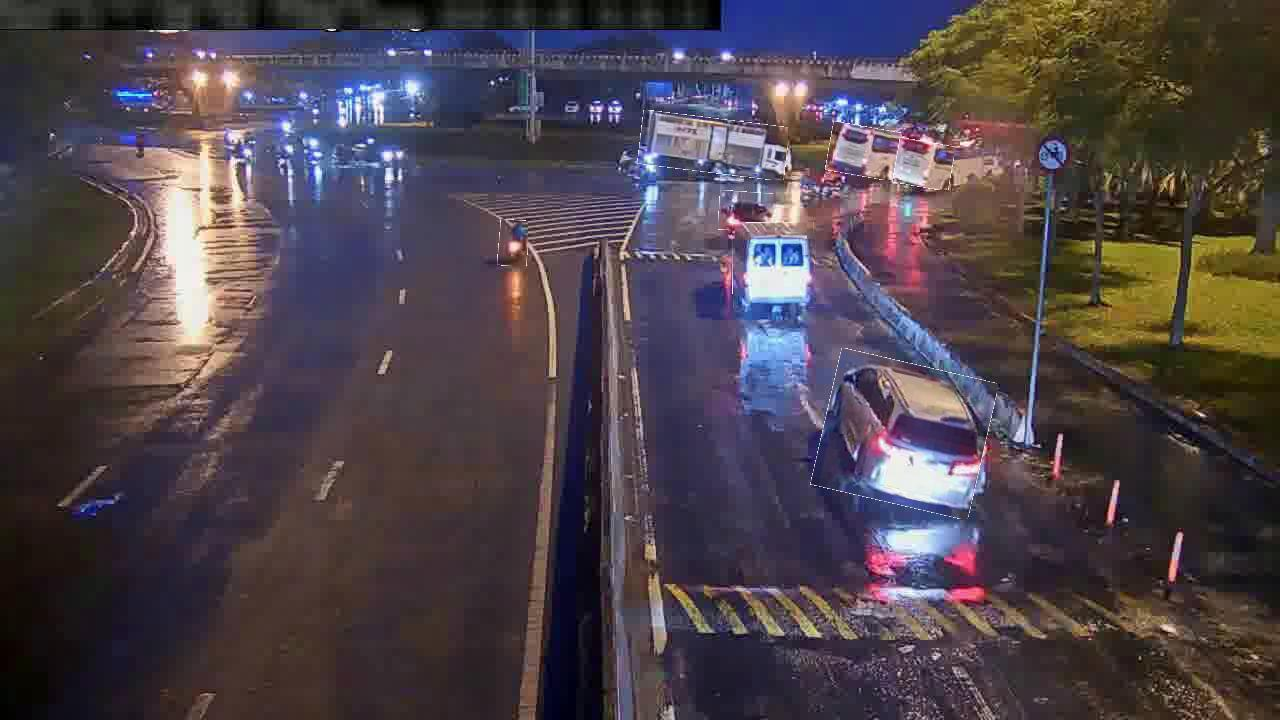car: (817, 356, 992, 512), (718, 191, 774, 232)
container: (639, 115, 788, 177)
motorbike: (498, 220, 529, 266)
passenger_car: (733, 223, 815, 309), (827, 124, 902, 179), (895, 140, 954, 189)
